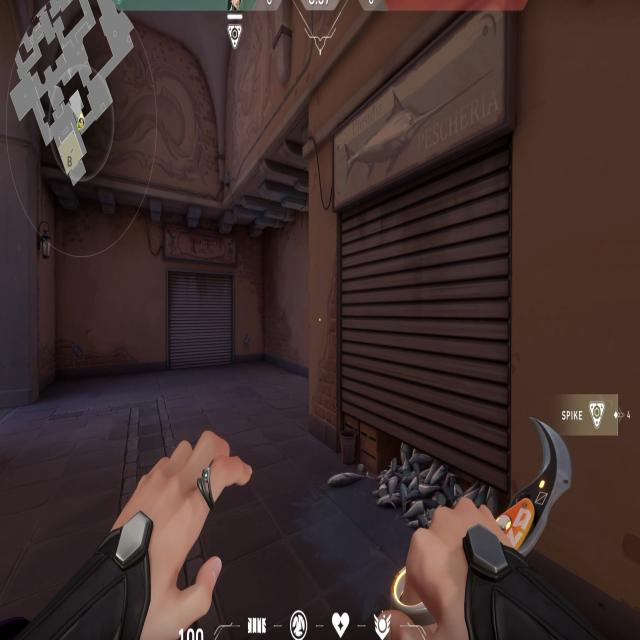B_Main_Corner: (288, 70, 540, 500)
